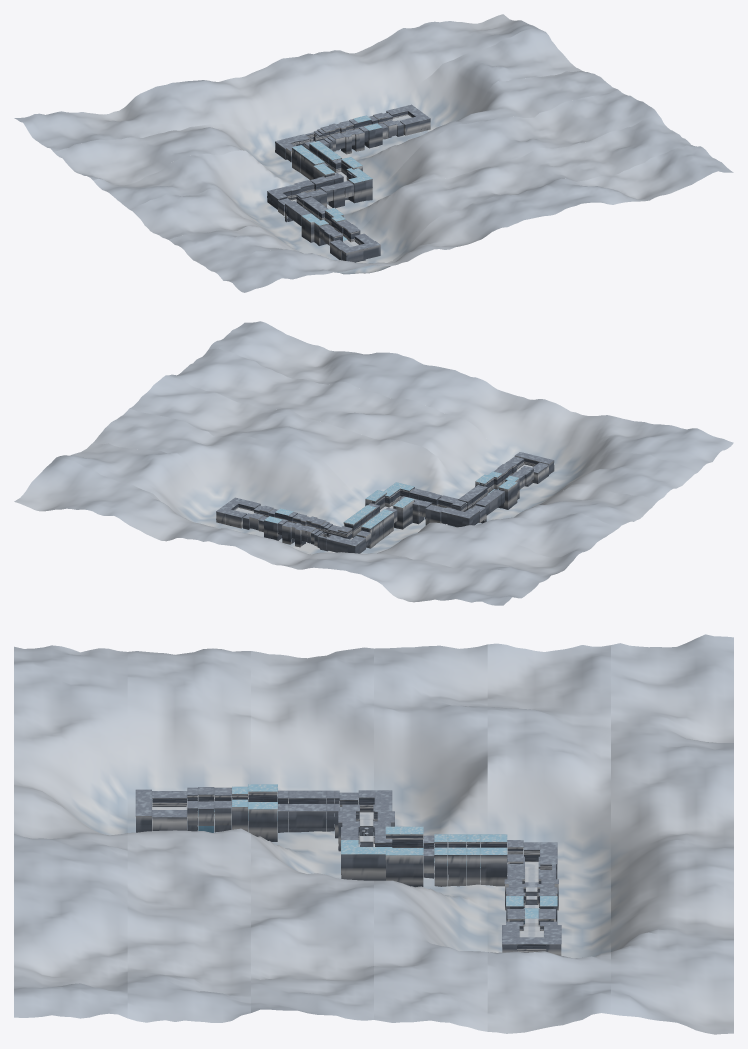
The model's file is icicle_caverns_terrain.glb.
3 renders of one model, top to bottom at view 1: azimuth 30°, elevation 25°; view 2: azimuth 150°, elevation 25°; view 3: azimuth 270°, elevation 25°, orthographic. The views are drawn at different scales.
Parts seen in each view (by area): view 1: backdrop_5, backdrop_4, backdrop_2, backdrop_1, backdrop_0, backdrop_3, terrain_E, terrain_I, terrain_G, terrain_F, terrain_H, terrain_A (+4 smaller); view 2: backdrop_0, backdrop_1, backdrop_3, backdrop_2, backdrop_5, backdrop_4, terrain_E, terrain_I, terrain_G, terrain_H, terrain_F, terrain_J (+4 smaller); view 3: backdrop_5, backdrop_0, backdrop_1, backdrop_4, backdrop_2, backdrop_3, terrain_G, terrain_F, terrain_D, terrain_E, terrain_C, terrain_I (+4 smaller).
Boxes of the visible parts, left/top/right/bottom form: backdrop_5: left=14, top=14, right=541, bottom=151; backdrop_4: left=54, top=28, right=581, bottom=185; backdrop_2: left=129, top=90, right=657, bottom=245; backdrop_1: left=169, top=114, right=693, bottom=272; backdrop_0: left=208, top=145, right=733, bottom=292; backdrop_3: left=93, top=70, right=617, bottom=216; terrain_E: left=267, top=173, right=353, bottom=209; terrain_I: left=329, top=113, right=397, bottom=154; terrain_G: left=286, top=140, right=341, bottom=179; terrain_F: left=313, top=157, right=372, bottom=203; terrain_H: left=275, top=125, right=345, bottom=159; terrain_A: left=330, top=233, right=380, bottom=262; backdrop_0: left=208, top=321, right=733, bottom=476; backdrop_1: left=169, top=348, right=697, bottom=506; backdrop_3: left=93, top=408, right=618, bottom=557; backdrop_2: left=129, top=375, right=657, bottom=528; backdrop_5: left=14, top=458, right=541, bottom=605; backdrop_4: left=53, top=443, right=581, bottom=581; terrain_E: left=398, top=488, right=479, bottom=527; terrain_I: left=249, top=505, right=317, bottom=547; terrain_G: left=337, top=503, right=397, bottom=548; terrain_H: left=301, top=518, right=365, bottom=553; terrain_F: left=365, top=482, right=414, bottom=529; terrain_J: left=216, top=497, right=263, bottom=529; backdrop_5: left=611, top=634, right=733, bottom=1034; backdrop_0: left=14, top=645, right=127, bottom=1018; backdrop_1: left=127, top=648, right=250, bottom=1022; backdrop_4: left=487, top=643, right=610, bottom=1033; backdrop_2: left=251, top=647, right=373, bottom=1020; backdrop_3: left=374, top=644, right=487, bottom=1031; terrain_G: left=423, top=834, right=523, bottom=886; terrain_F: left=341, top=826, right=423, bottom=887; terrain_D: left=278, top=790, right=358, bottom=838; terrain_E: left=338, top=790, right=394, bottom=851; terrain_C: left=232, top=784, right=277, bottom=841; terrain_I: left=504, top=879, right=558, bottom=930.
Size of the model in its own units: 651 by 69.46 by 532.
